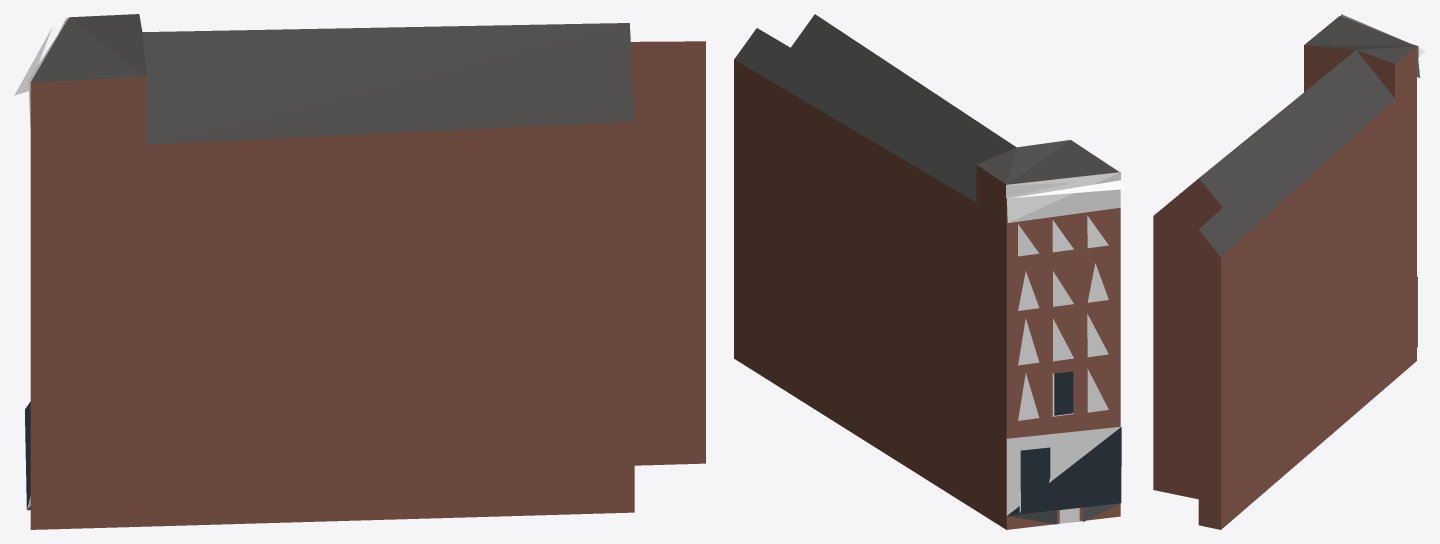
The model's file is condomerie.lod2.glb.
3 renders of one model, left to right at view 1: azimuth 30°, elevation 25°; view 2: azimuth 150°, elevation 25°; view 3: azimuth 270°, elevation 25°, orthographic. The views are drawn at different scales.
Parts seen in each view (by area): view 1: lod2; view 2: lod2; view 3: lod2.
Part boxes in pixels (x1=…): lod2: x1=14, y1=14, x2=705, y2=529; lod2: x1=734, y1=14, x2=1124, y2=529; lod2: x1=1153, y1=14, x2=1425, y2=529.
Size of the model in its own units: 26.5 by 19.41 by 14.92.
